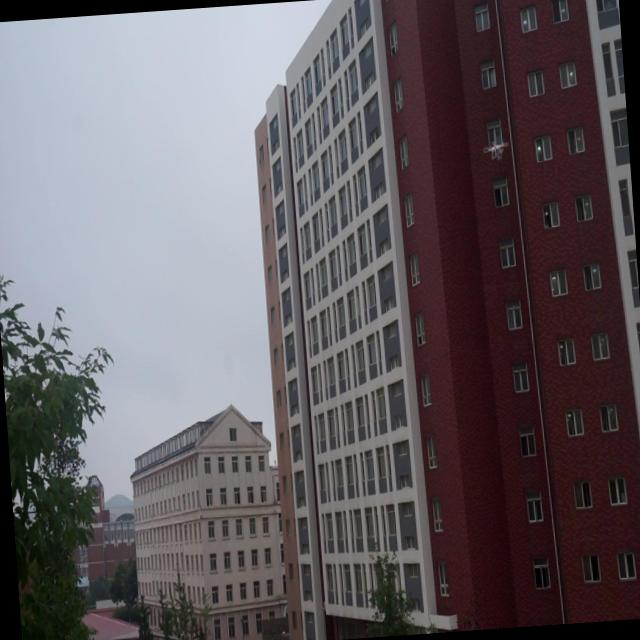drone: (480, 137, 510, 163)
